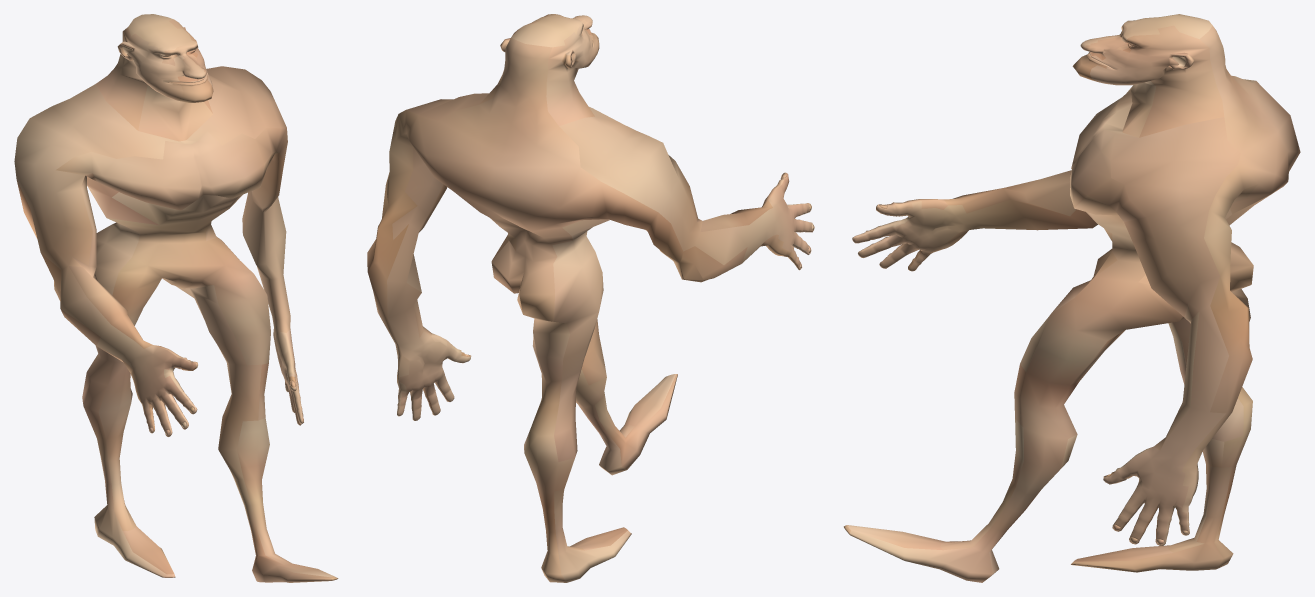
The picture shows the model from 3 angles, left to right: view 1: azimuth 30°, elevation 25°; view 2: azimuth 150°, elevation 25°; view 3: azimuth 270°, elevation 25°; orthographic projection. The views are drawn at different scales.
Visible parts, largest first — view 1: soldiersoldier120; view 2: soldiersoldier120; view 3: soldiersoldier120.
Part boxes in pixels (left/top/right/bottom): soldiersoldier120: left=14, top=14, right=338, bottom=582; soldiersoldier120: left=367, top=14, right=814, bottom=582; soldiersoldier120: left=843, top=14, right=1300, bottom=582.
Size of the model in its own units: 2.52 by 4.39 by 3.23.
Materials: 1 (1 with a texture image).
